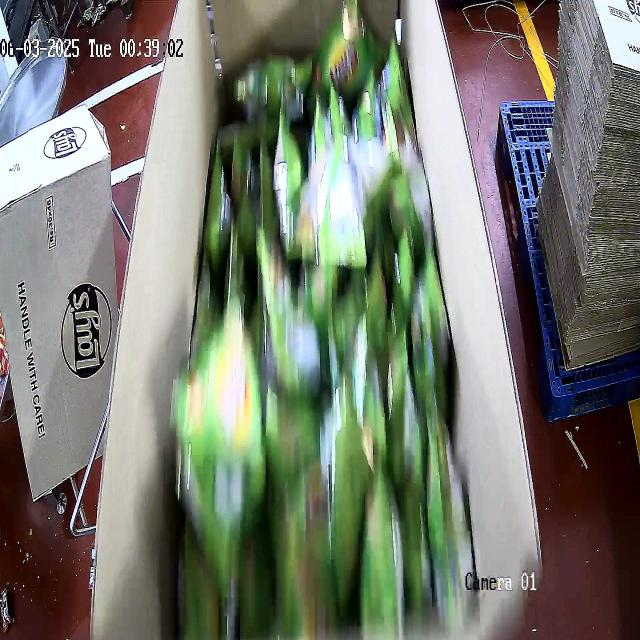YOGURT_HERB: (170, 5, 471, 637)
